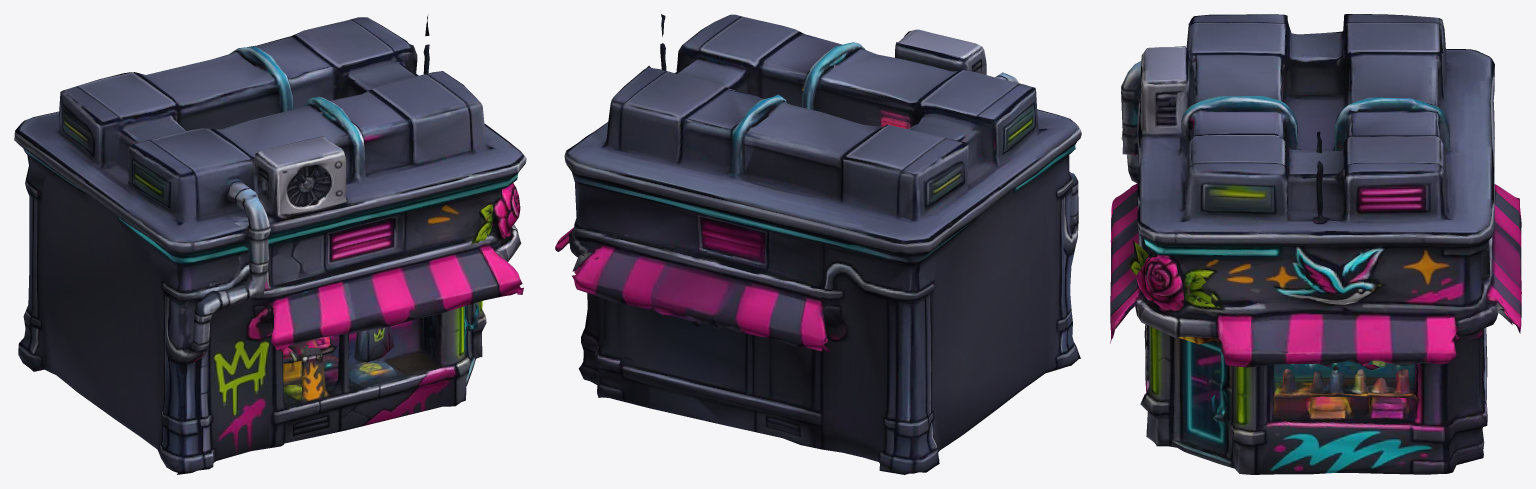
Rendered from GW_D01_corner_shop_facade.glb.
3 renders of one model, left to right at view 1: azimuth 30°, elevation 25°; view 2: azimuth 150°, elevation 25°; view 3: azimuth 270°, elevation 25°, orthographic. The views are drawn at different scales.
Visible parts, largest first — view 1: tripo_node_e52ab7df-85c2-48d6-af4b-b678e3d113ef; view 2: tripo_node_e52ab7df-85c2-48d6-af4b-b678e3d113ef; view 3: tripo_node_e52ab7df-85c2-48d6-af4b-b678e3d113ef.
Part boxes in pixels (x1=…): tripo_node_e52ab7df-85c2-48d6-af4b-b678e3d113ef: x1=14, y1=14, x2=526, y2=474; tripo_node_e52ab7df-85c2-48d6-af4b-b678e3d113ef: x1=555, y1=14, x2=1081, y2=474; tripo_node_e52ab7df-85c2-48d6-af4b-b678e3d113ef: x1=1110, y1=14, x2=1521, y2=474.
Bounding box in the file's own units: 0.9988 × 0.7986 × 0.8865.
1 material, 1 textured.
